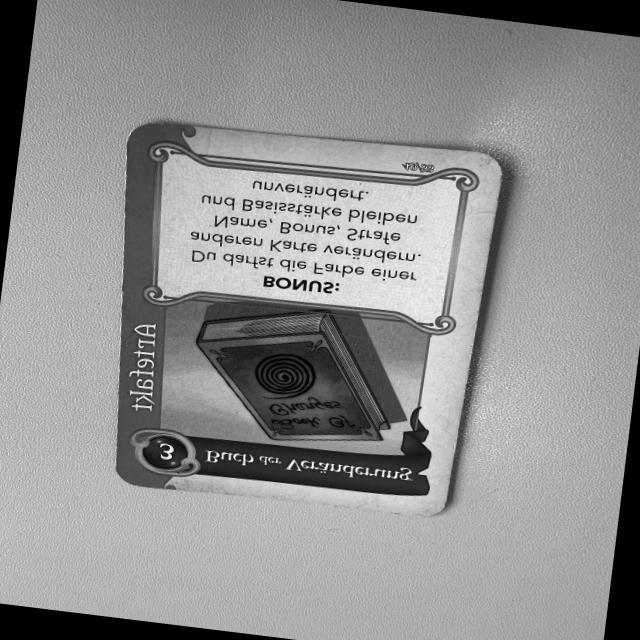Book Of Changes: (112, 117, 507, 519)
